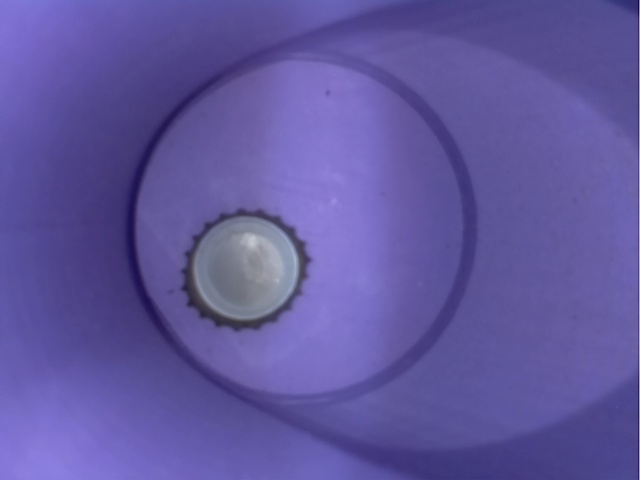capsule: (157, 194, 345, 332)
